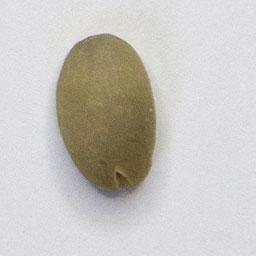premium: (54, 31, 159, 196)
